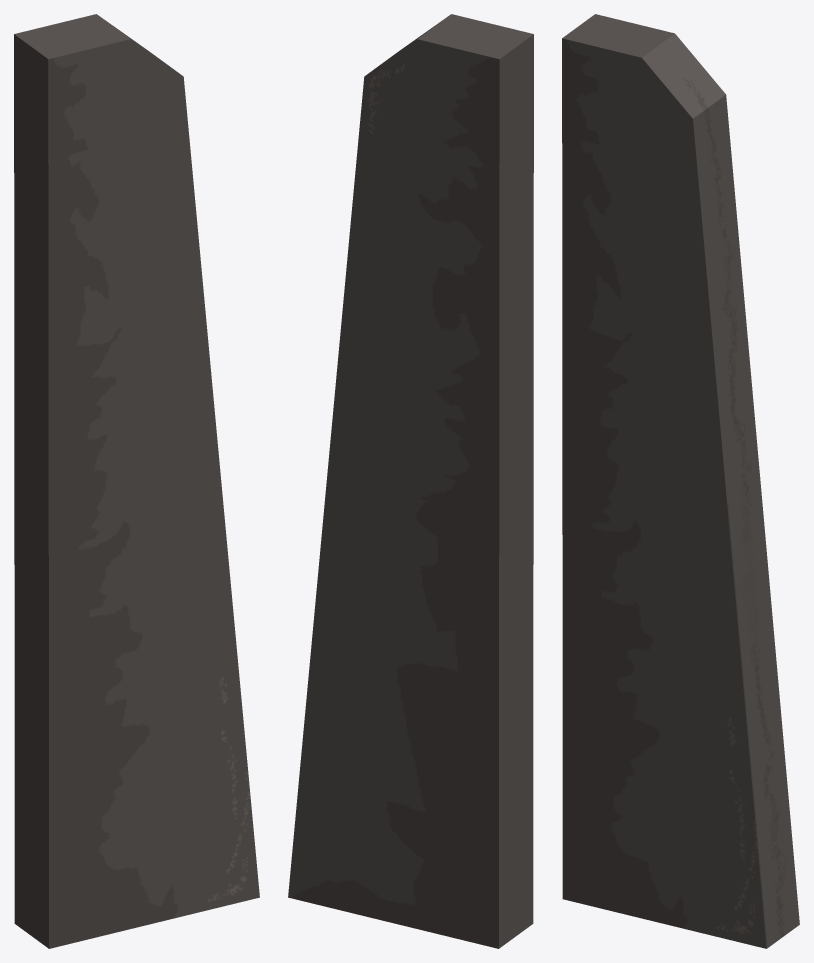
File: metalBuildingRib.obj
3 renders of one model, left to right at view 1: azimuth 30°, elevation 25°; view 2: azimuth 150°, elevation 25°; view 3: azimuth 330°, elevation 25°, orthographic. The views are drawn at different scales.
Parts seen in each view (by area): view 1: Cube; view 2: Cube; view 3: Cube.
Part boxes in pixels (left/top/right/bottom): Cube: left=14, top=14, right=259, bottom=948; Cube: left=288, top=14, right=533, bottom=948; Cube: left=562, top=14, right=799, bottom=948.
Size of the model in its own units: 0.7472 by 3 by 0.2102.
Materials: 1 (1 with a texture image).
